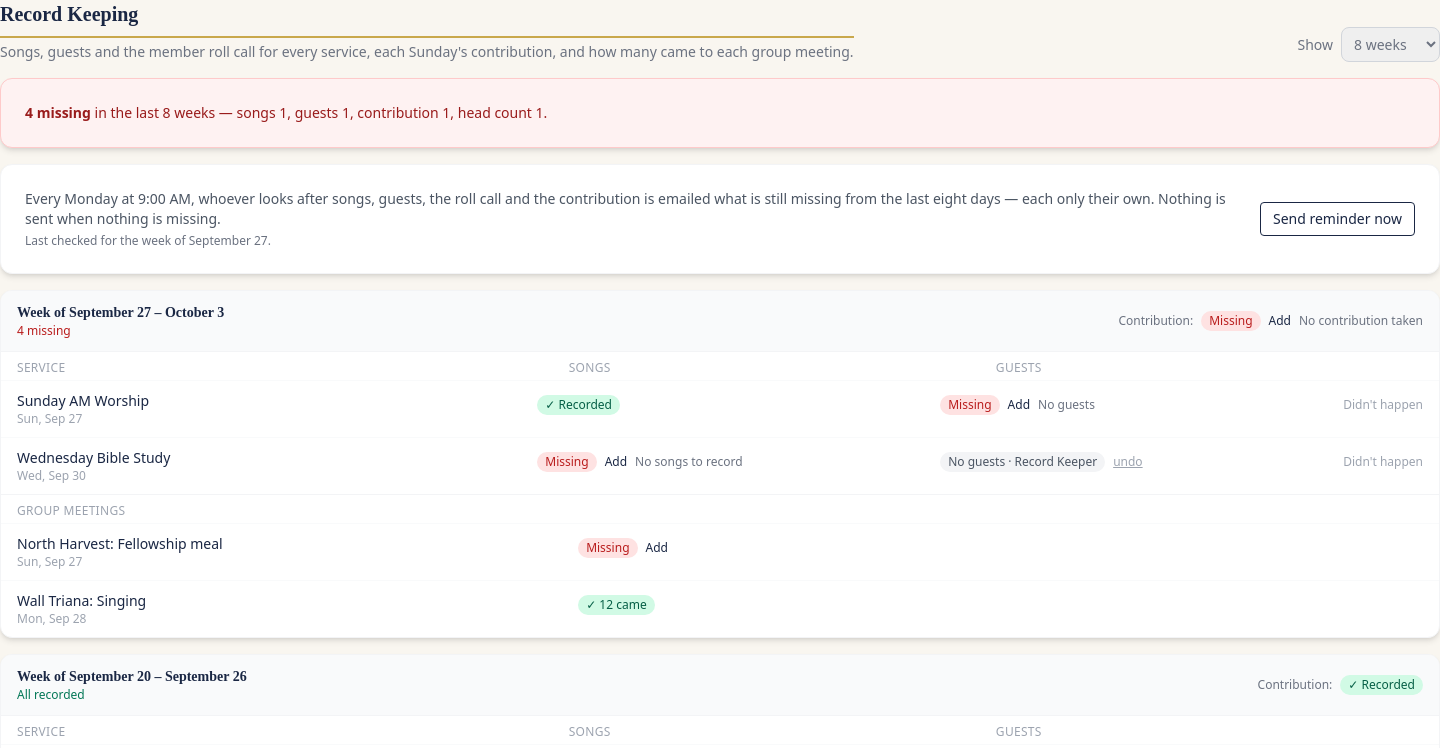
RecordKeepingView › says when the reminder goes out, and sends it on request
Check: the text "Every Monday at 9:00 AM" is shown, box [25,189,1248,229]
Check: the text "Last checked for the week of September 27." is shown, box [25,232,271,249]
Step 1. Click the button "Send reminder now" → (1338, 219), box [1260,202,1415,236]
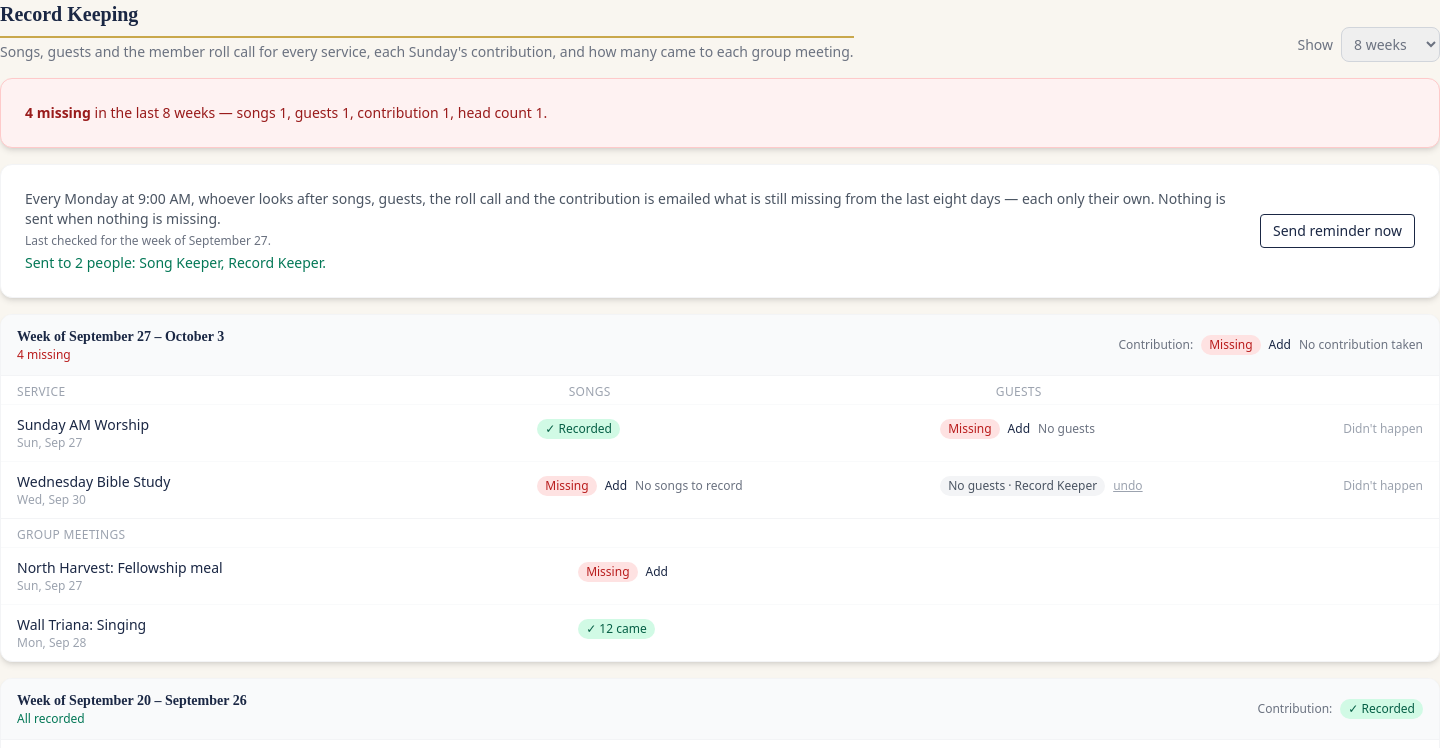
Check: the text "Sent to 2 people: Song Keeper, Record Keeper." is shown, box [25,253,326,272]
